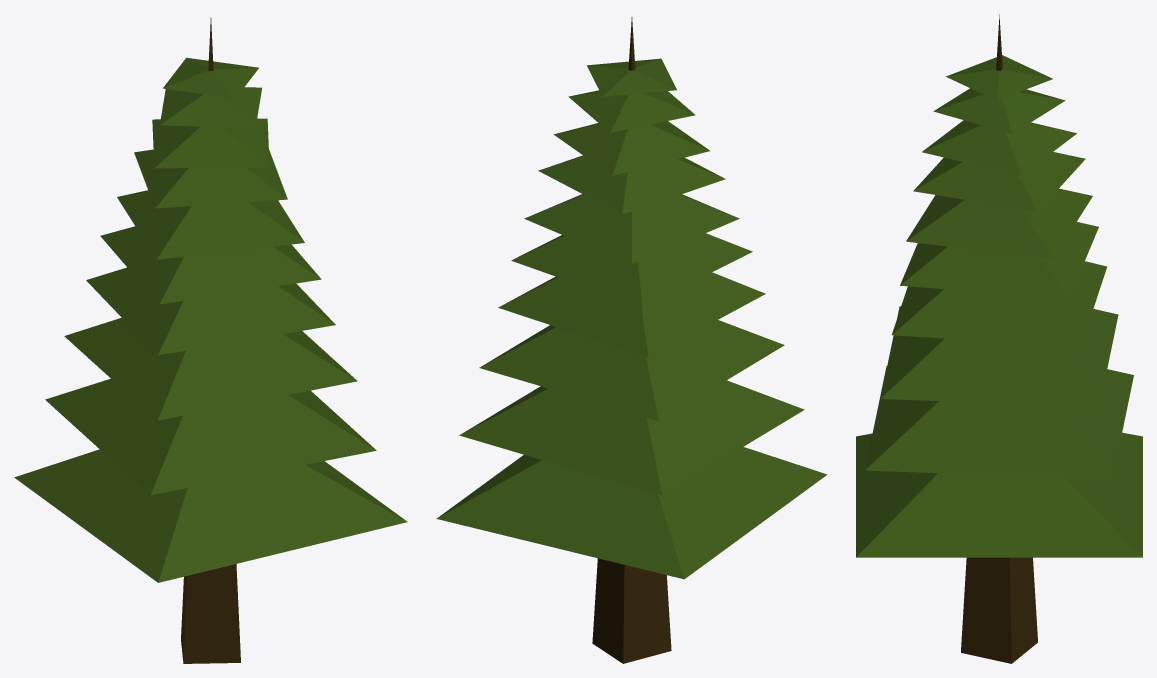
The model's file is PineTree.fbx.
The picture shows the model from 3 angles, left to right: view 1: azimuth 30°, elevation 25°; view 2: azimuth 150°, elevation 25°; view 3: azimuth 270°, elevation 25°; orthographic projection.
Visible parts, largest first — view 1: Pyramid_1, Pyramid_2, Pyramid_3, Pyramid_4, Pyramid_5, Pyramid_6, Pyramid, Pyramid_7, Pyramid_8, Pyramid_9, Pyramid_10; view 2: Pyramid_1, Pyramid_2, Pyramid_3, Pyramid_4, Pyramid_5, Pyramid_6, Pyramid, Pyramid_7, Pyramid_8, Pyramid_9, Pyramid_10; view 3: Pyramid_1, Pyramid_2, Pyramid_3, Pyramid_4, Pyramid_5, Pyramid_6, Pyramid, Pyramid_7, Pyramid_8, Pyramid_9, Pyramid_10.
Part boxes in pixels (x1,y1,x2,y2): Pyramid_1: (14, 449, 407, 582); Pyramid_2: (45, 378, 376, 495); Pyramid_3: (64, 317, 357, 420); Pyramid_4: (86, 267, 335, 355); Pyramid_5: (100, 226, 321, 304); Pyramid_6: (117, 190, 304, 259); Pyramid: (181, 17, 240, 663); Pyramid_7: (134, 149, 287, 208); Pyramid_8: (152, 118, 269, 168); Pyramid_9: (160, 87, 261, 128); Pyramid_10: (163, 57, 258, 98); Pyramid_1: (436, 447, 827, 579); Pyramid_2: (459, 380, 804, 495); Pyramid_3: (479, 320, 784, 420); Pyramid_4: (498, 272, 765, 357); Pyramid_5: (511, 233, 752, 307); Pyramid_6: (524, 194, 739, 263); Pyramid: (592, 17, 671, 663); Pyramid_7: (538, 155, 725, 214); Pyramid_8: (553, 121, 709, 175); Pyramid_9: (568, 90, 695, 132); Pyramid_10: (587, 58, 676, 96); Pyramid_1: (856, 432, 1142, 557); Pyramid_2: (865, 366, 1133, 479); Pyramid_3: (880, 306, 1118, 406); Pyramid_4: (892, 261, 1106, 346); Pyramid_5: (900, 222, 1098, 298); Pyramid_6: (906, 188, 1092, 258); Pyramid: (961, 14, 1037, 663); Pyramid_7: (913, 152, 1085, 211); Pyramid_8: (922, 120, 1076, 175); Pyramid_9: (933, 88, 1065, 133); Pyramid_10: (946, 55, 1052, 100).
Bounding box in the file's own units: 3000 × 7316 × 3000.
